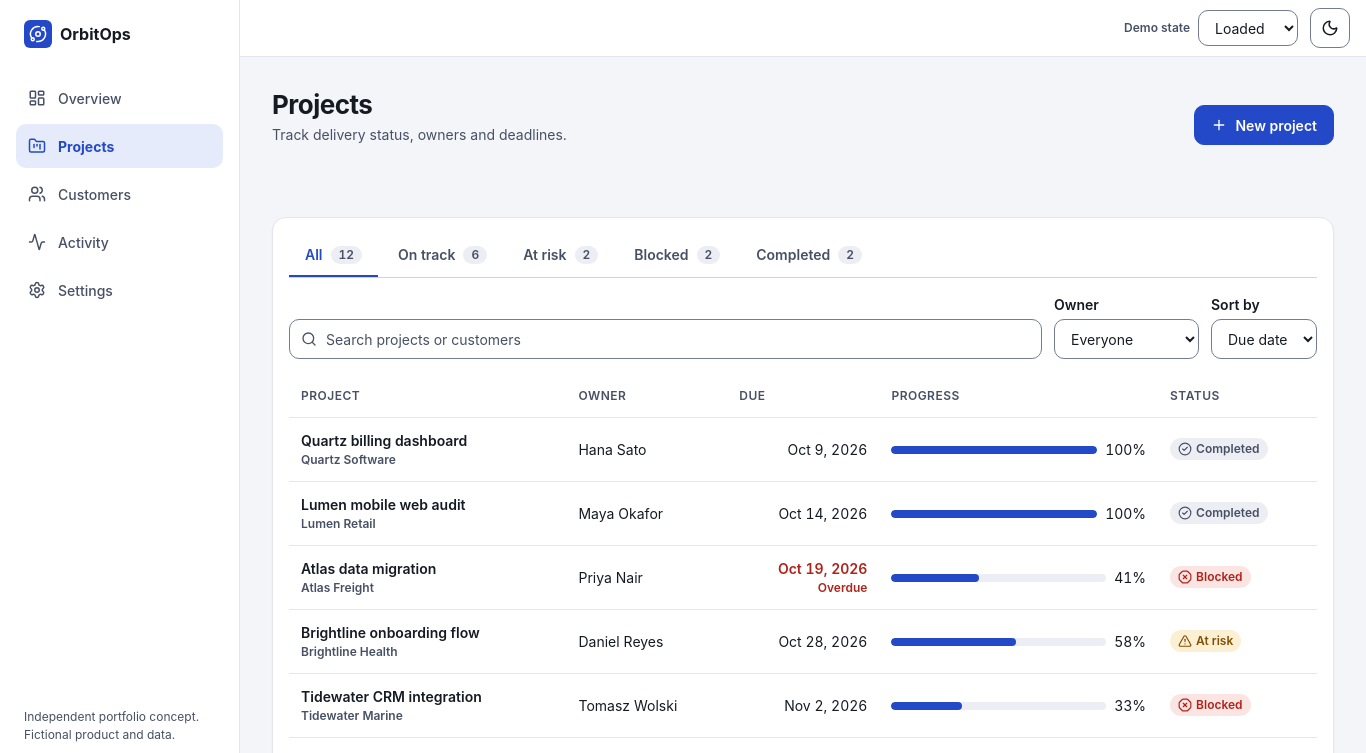
Scenario: projects filtering › validates the new project dialog and adds the project
Click the button "New project". click: (1264, 125)
box: 1194,105 -> 1334,145
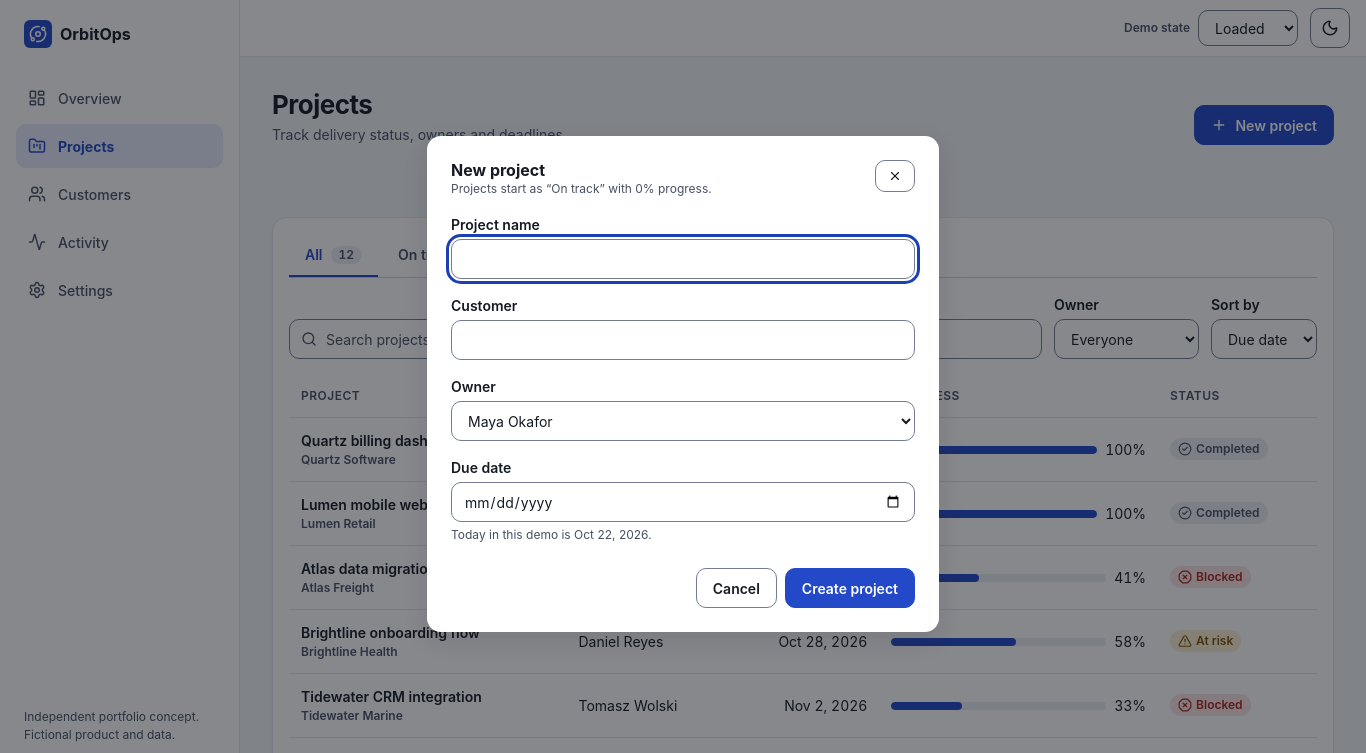
Click the button "Create project". click: (850, 588)
box: 785,568 -> 915,608
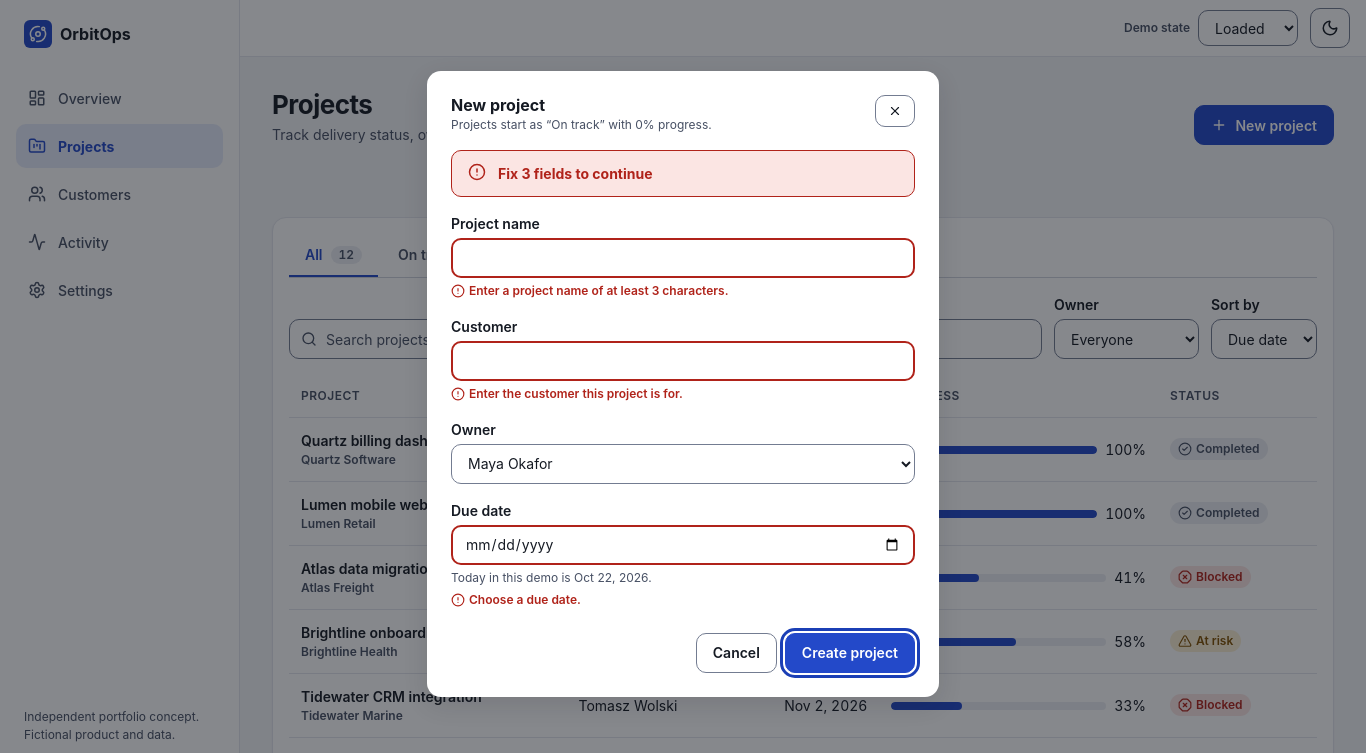
Expected: the message shows "Fix 3 fields", 451,150 -> 915,197
Type "Pilot dashboard" into the field labelled "Project name". click: (683, 258)
box: 451,238 -> 915,278
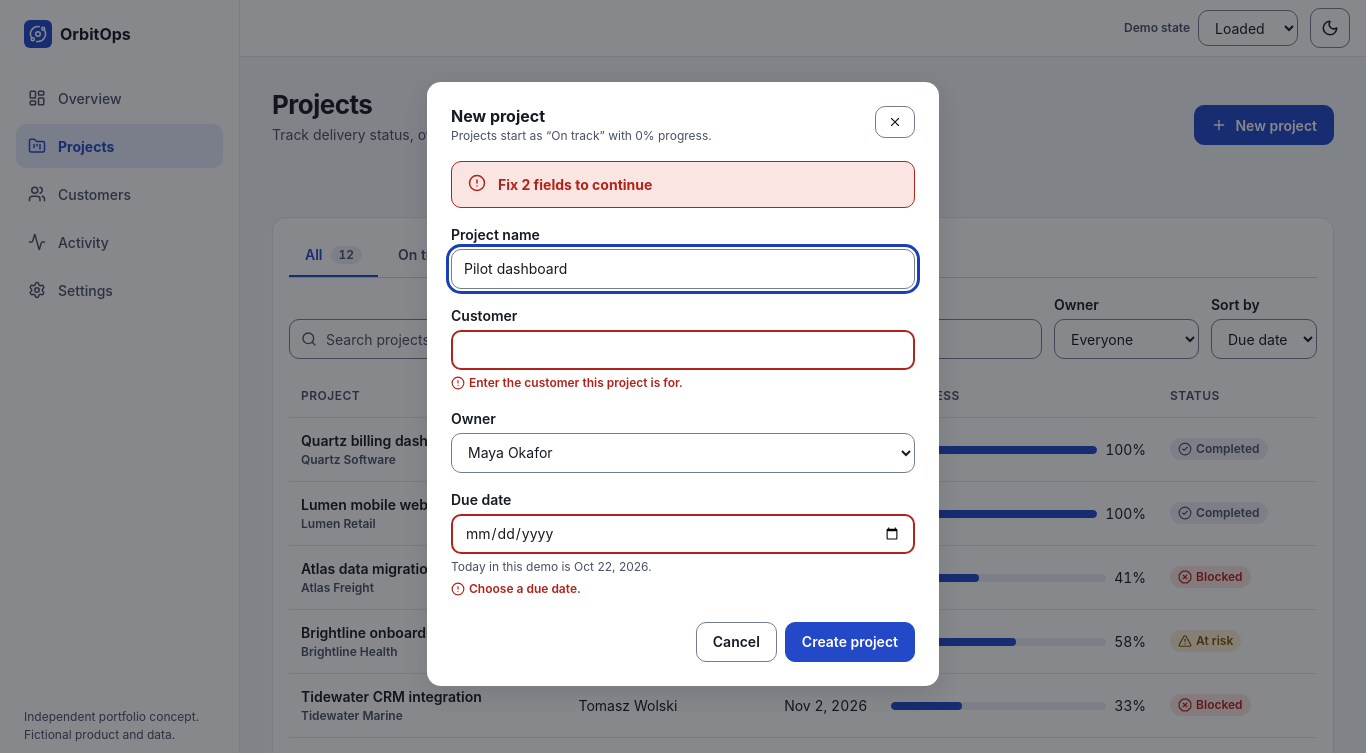
Type "Acme Co" into the field labelled "Customer". click: (683, 350)
box: 451,330 -> 915,370
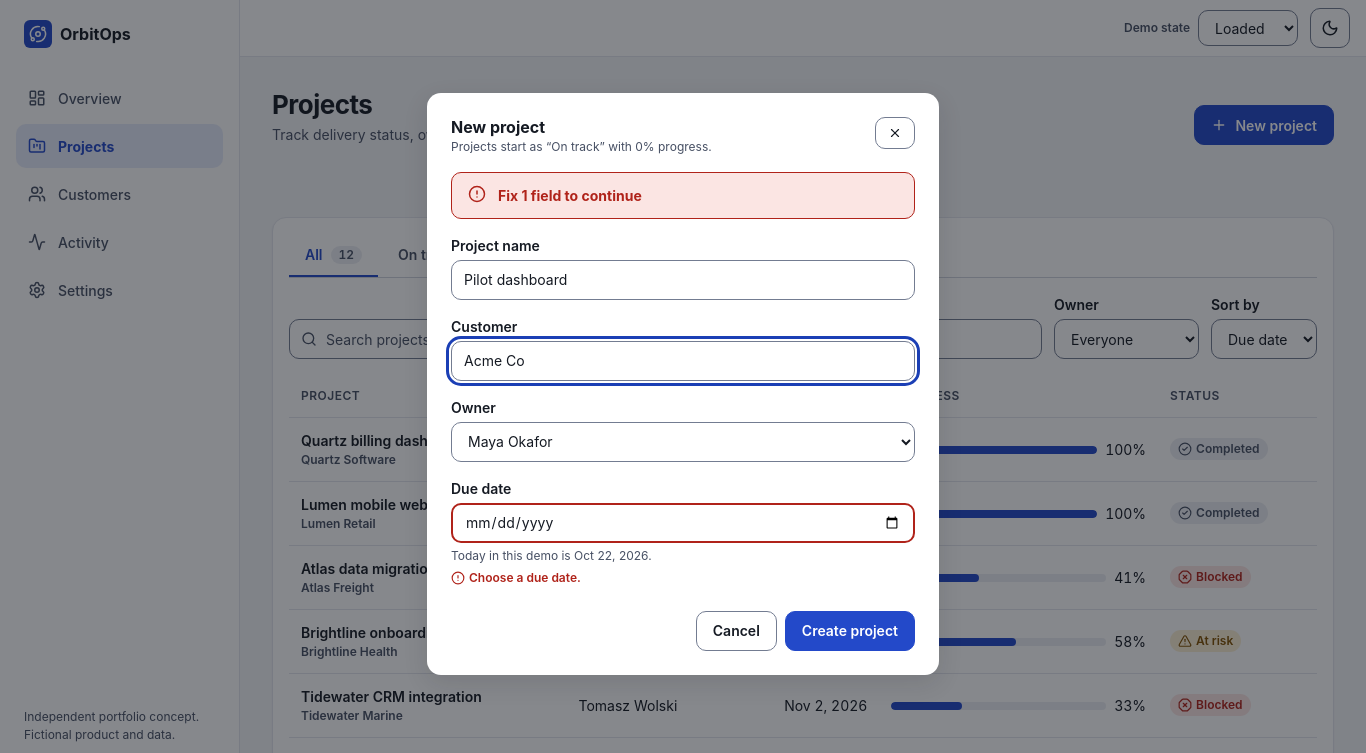
Type "2026-12-01" into the date field labelled "Due date". click: (683, 523)
box: 451,503 -> 915,543
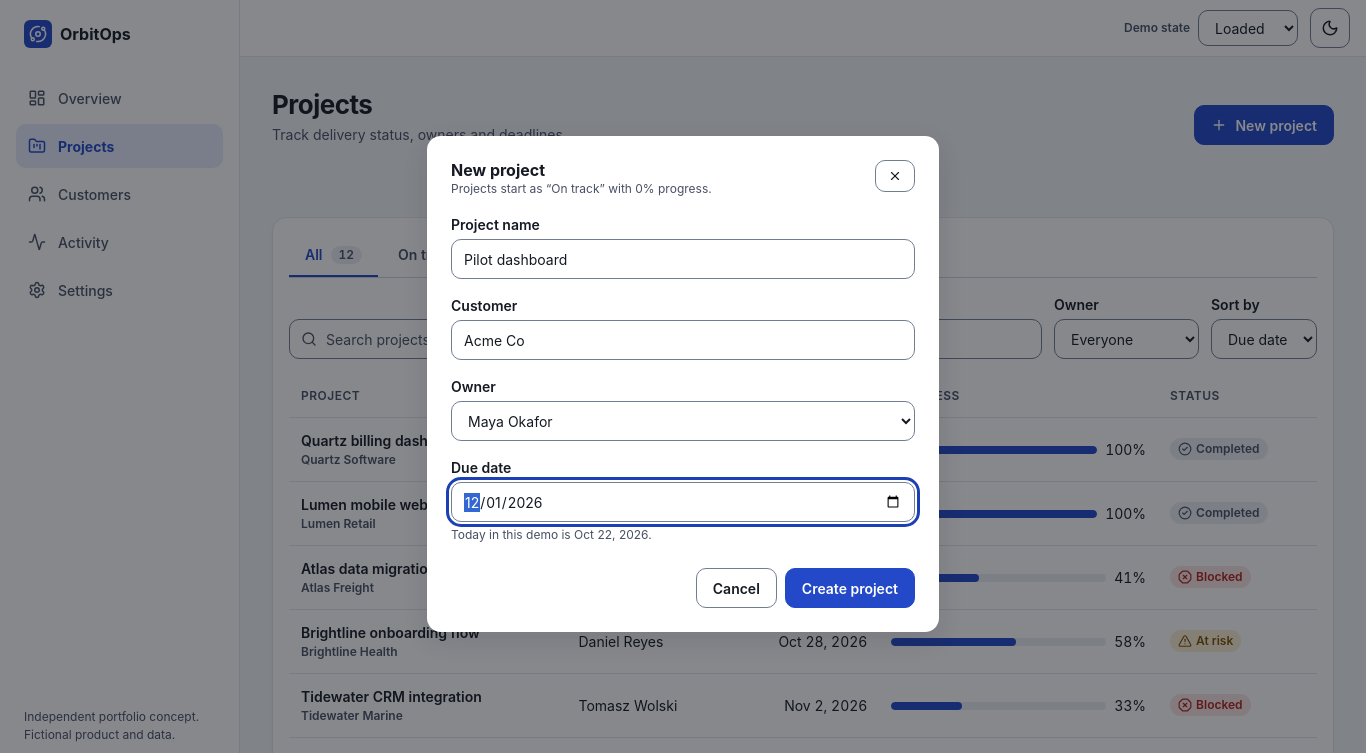
Click the button "Create project". click: (850, 588)
box: 785,568 -> 915,608
(page scrolled)
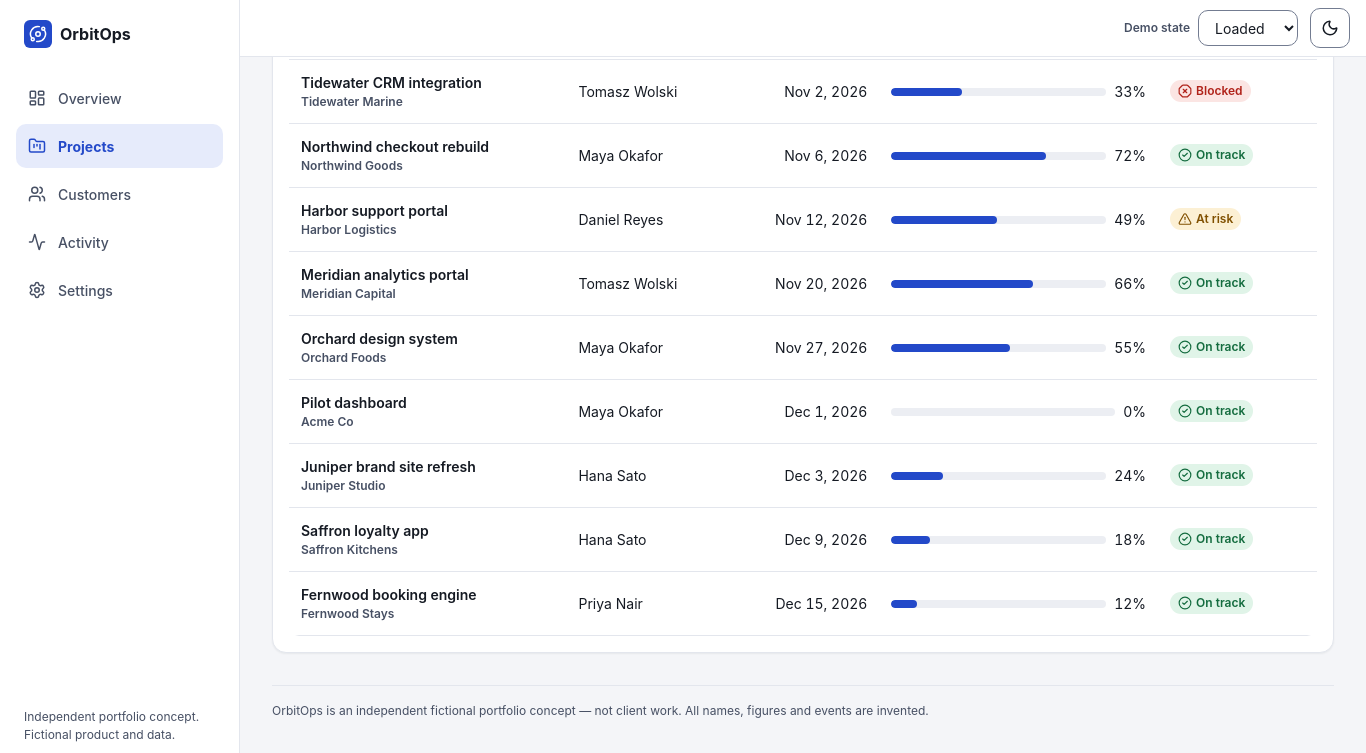
Expected: the dialog is gone
Expected: the text "Pilot dashboard" is shown, 301,394 -> 407,411
